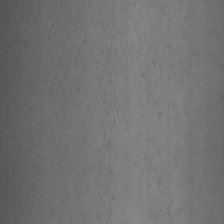silk_spot: (129, 8, 217, 205), (59, 13, 126, 213)
